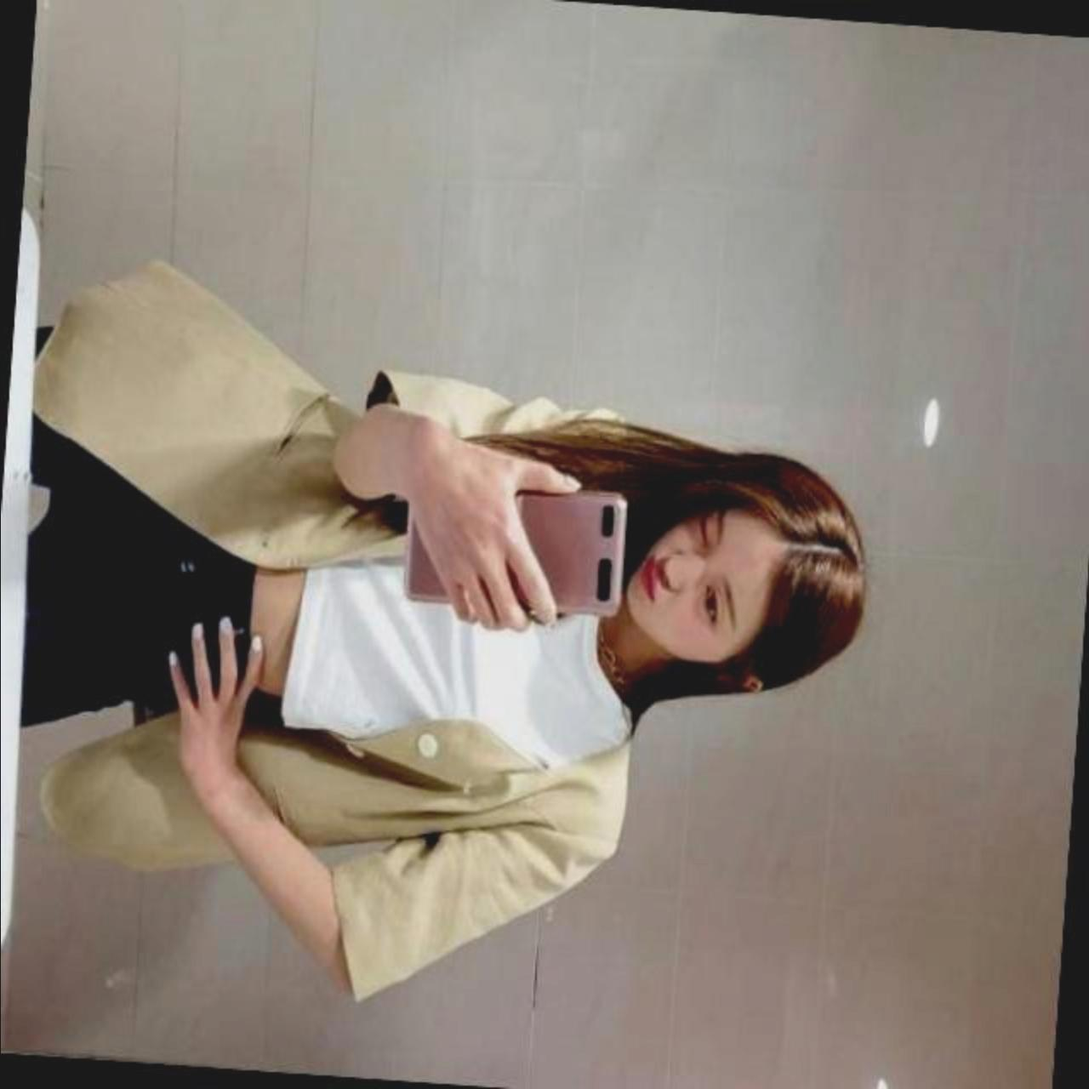phone: (393, 465, 643, 624)
